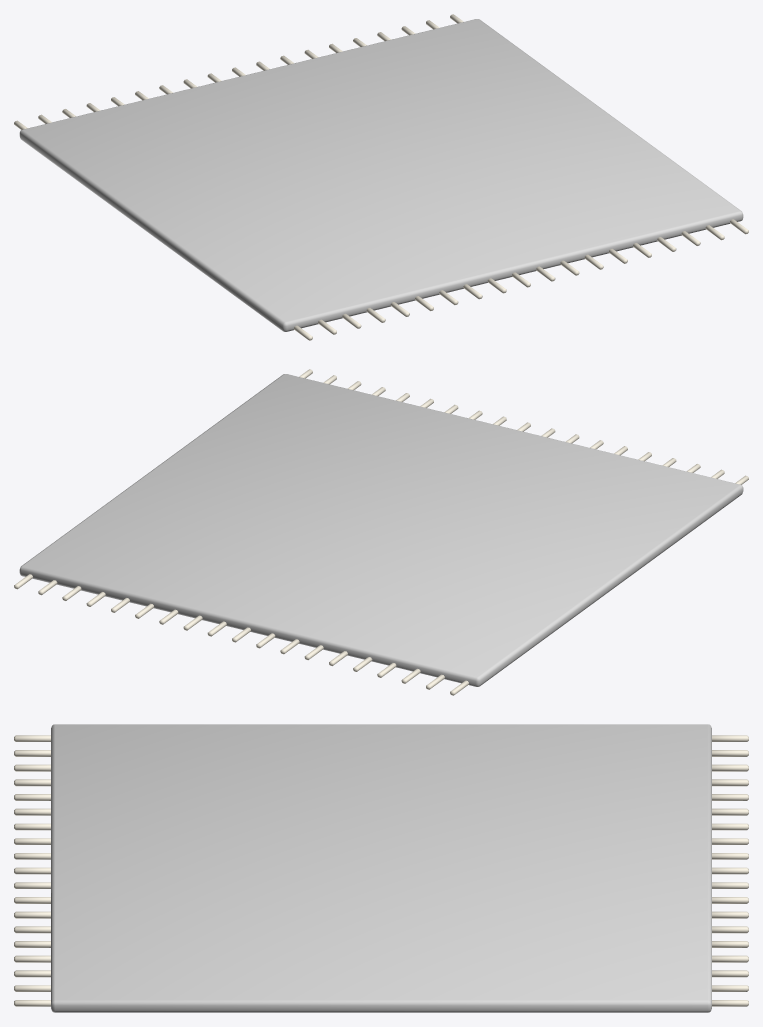
The model's file is sc_rug.glb.
3 renders of one model, top to bottom at view 1: azimuth 30°, elevation 25°; view 2: azimuth 150°, elevation 25°; view 3: azimuth 270°, elevation 25°, orthographic. The views are drawn at different scales.
Parts seen in each view (by area): view 1: Rug; view 2: Rug; view 3: Rug.
Part boxes in pixels (x1,y1,x2,y2): Rug: (19, 19, 743, 331); Rug: (19, 374, 743, 686); Rug: (51, 724, 711, 1012).
Size of the model in its own units: 0.285 by 0.006 by 0.317.
